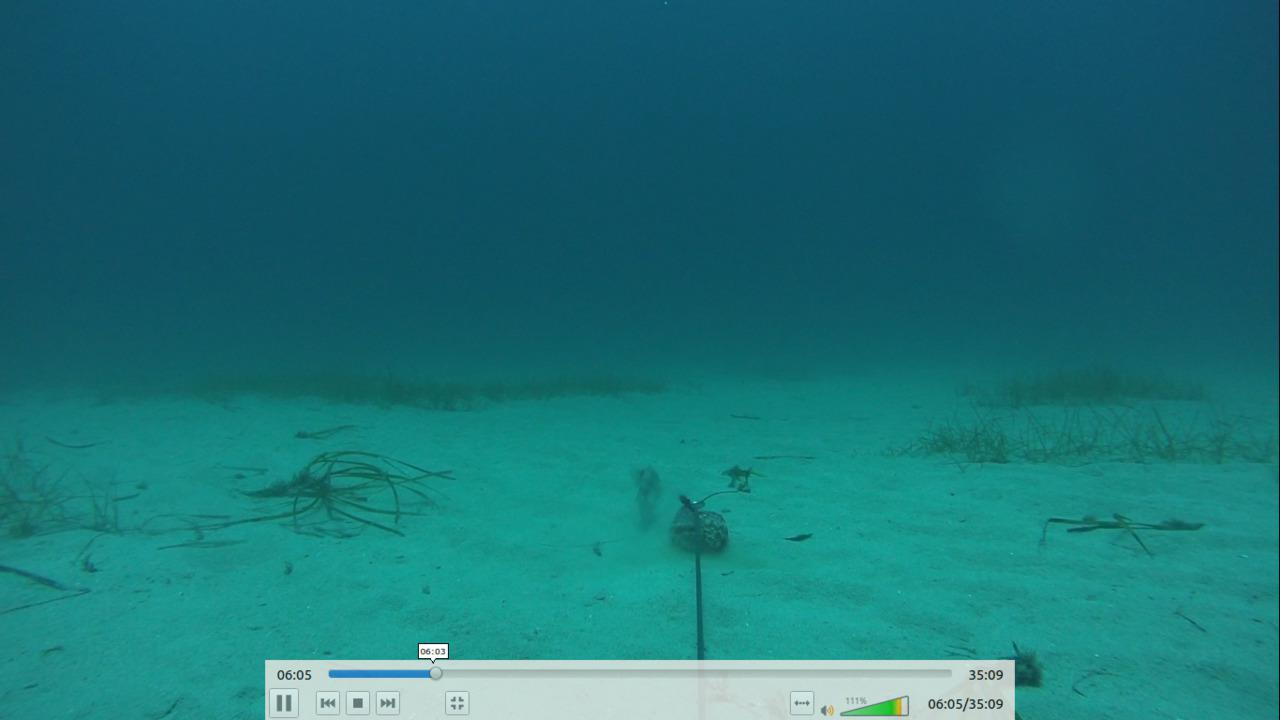raor: (619, 459, 664, 528)
